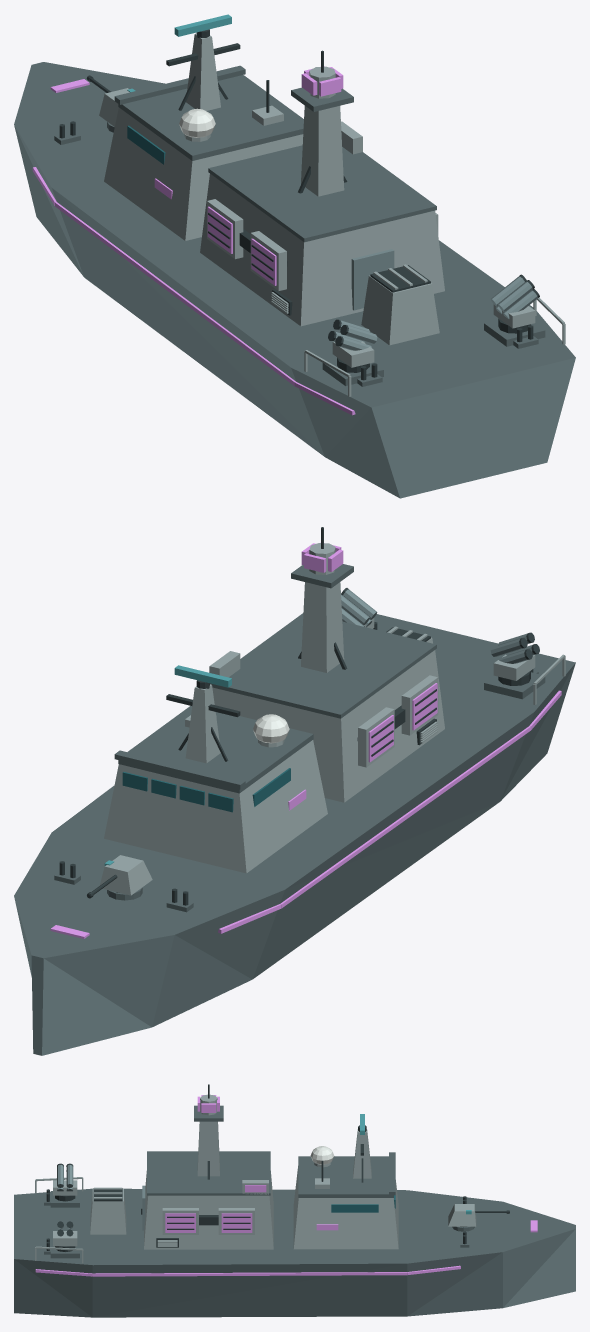
File: ESC_EW_T2.fbx
3 views of the same model, one above another, from view 1: azimuth 30°, elevation 25°; view 2: azimuth 150°, elevation 25°; view 3: azimuth 270°, elevation 25° (orthographic). The views are drawn at different scales.
Visible parts, largest first — view 1: ContinuousHull.010, ElectronicWarfareEquipmentRoom.002, ElectronicsRoomRoof, Deckhouse.010, Roof.010, FunnelEnclosure.010, ESMMast.002, NavMast.006, RoleHullStripe-1_1, EWServiceHatch, BridgeBrow, JammerBackplate_P0 (+9 smaller); view 2: ContinuousHull.010, Deckhouse.010, ElectronicsRoomRoof, ElectronicWarfareEquipmentRoom.002, Roof.010, ESMMast.002, NavMast.006, RoleHullStripe-1_1, PrimaryGunCupola.010, BridgeBrow, JammerBackplate_P0, JammerBackplate_P1 (+6 smaller); view 3: ContinuousHull.010, Deckhouse.010, ElectronicWarfareEquipmentRoom.002, ElectronicsRoomRoof, Roof.010, FunnelEnclosure.010, RoleHullStripe1_1, ESMMast.002, NavMast.006, PrimaryGunCupola.010, JammerFace_S1, JammerFace_S0 (+7 smaller).
Boxes of the visible parts, bbox=[...] form: ContinuousHull.010: bbox=[14, 62, 575, 498]; ElectronicWarfareEquipmentRoom.002: bbox=[200, 174, 444, 326]; ElectronicsRoomRoof: bbox=[208, 145, 436, 242]; Deckhouse.010: bbox=[104, 107, 303, 240]; Roof.010: bbox=[118, 75, 303, 160]; FunnelEnclosure.010: bbox=[361, 275, 439, 345]; ESMMast.002: bbox=[301, 106, 344, 196]; NavMast.006: bbox=[186, 33, 220, 110]; RoleHullStripe-1_1: bbox=[55, 202, 295, 385]; EWServiceHatch: bbox=[351, 249, 394, 310]; BridgeBrow: bbox=[114, 65, 245, 104]; JammerBackplate_P0: bbox=[250, 231, 286, 290]; ContinuousHull.010: bbox=[14, 614, 575, 1055]; Deckhouse.010: bbox=[104, 740, 327, 873]; ElectronicsRoomRoof: bbox=[210, 613, 436, 718]; ElectronicWarfareEquipmentRoom.002: bbox=[212, 650, 444, 802]; Roof.010: bbox=[118, 706, 313, 793]; ESMMast.002: bbox=[301, 582, 344, 672]; NavMast.006: bbox=[185, 684, 220, 763]; RoleHullStripe-1_1: bbox=[280, 726, 530, 907]; PrimaryGunCupola.010: bbox=[99, 855, 152, 895]; BridgeBrow: bbox=[114, 750, 245, 789]; JammerBackplate_P0: bbox=[401, 675, 438, 735]; JammerBackplate_P1: bbox=[358, 707, 394, 767]; ContinuousHull.010: bbox=[14, 1188, 575, 1317]; Deckhouse.010: bbox=[293, 1166, 398, 1249]; ElectronicWarfareEquipmentRoom.002: bbox=[144, 1171, 273, 1249]; ElectronicsRoomRoof: bbox=[147, 1151, 270, 1195]; Roof.010: bbox=[298, 1156, 393, 1197]; FunnelEnclosure.010: bbox=[90, 1189, 126, 1234]; RoleHullStripe1_1: bbox=[92, 1272, 407, 1276]; ESMMast.002: bbox=[197, 1121, 219, 1176]; NavMast.006: bbox=[353, 1129, 371, 1178]; PrimaryGunCupola.010: bbox=[448, 1204, 476, 1226]; JammerFace_S1: bbox=[221, 1213, 252, 1232]; JammerFace_S0: bbox=[165, 1213, 195, 1232].
Bounding box in the file's own units: 290 × 363 × 900.
